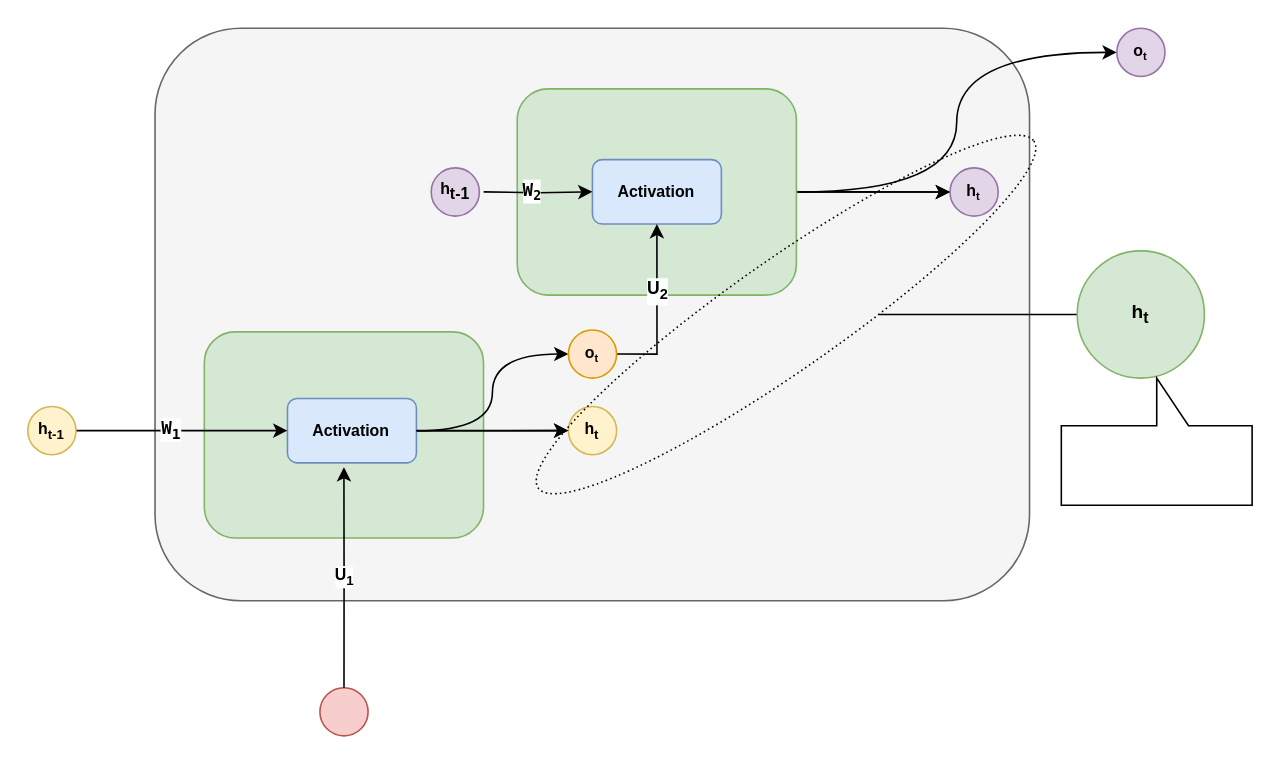
The diagram is 1280 pixels wide and 763 high, and some of its shapes have lost their labels. Each missing label, with the centre of its shape:
"Both states are returned" goes at [1156,441].
"X t" goes at [343,711].
